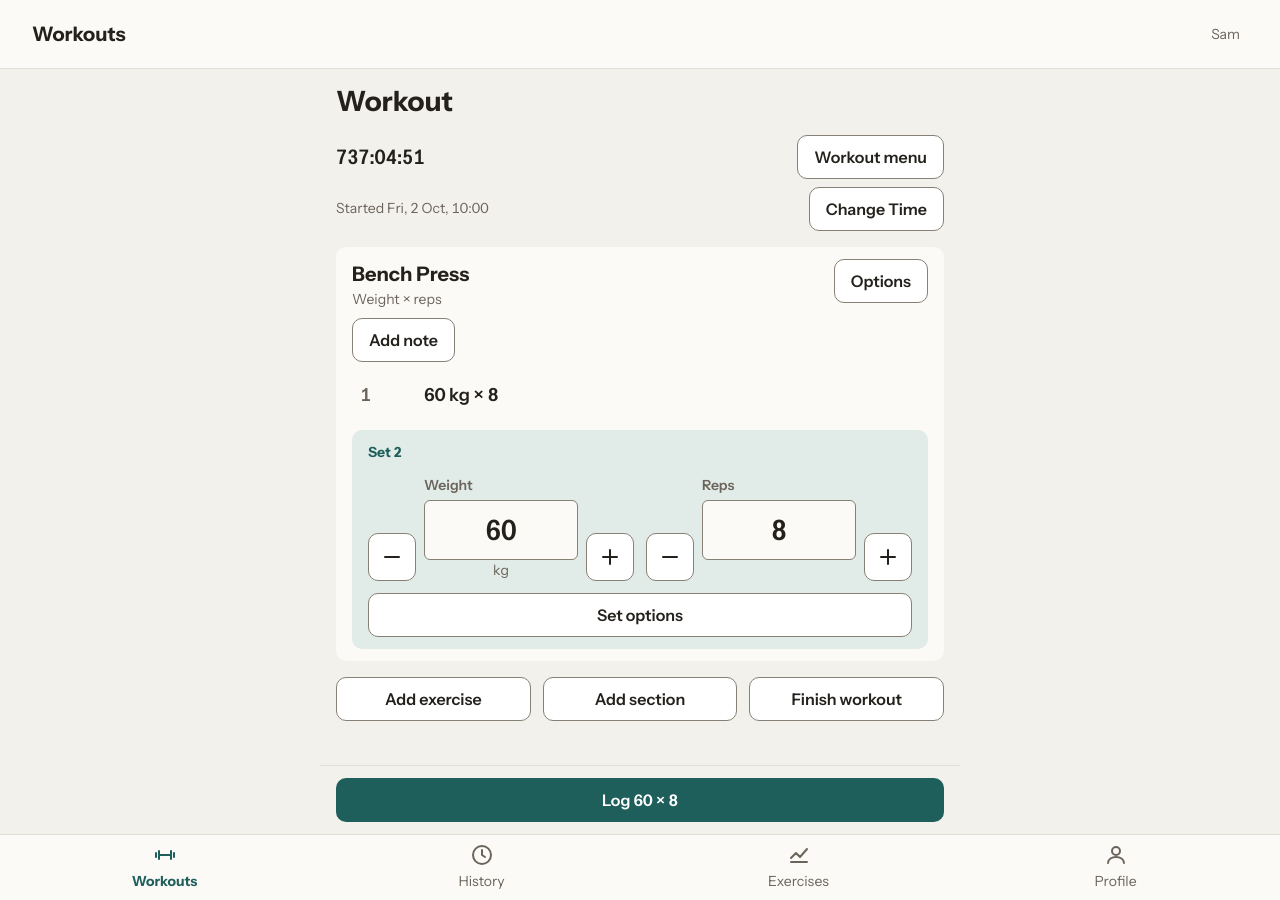
10.5 AC23 — observability › a kept finish tracks only workout_finished, with its usual properties
Expected: the heading "Workout" is shown, [336, 84, 453, 118]
Click the button "Finish workout" at (847, 699), box [749, 677, 944, 721]
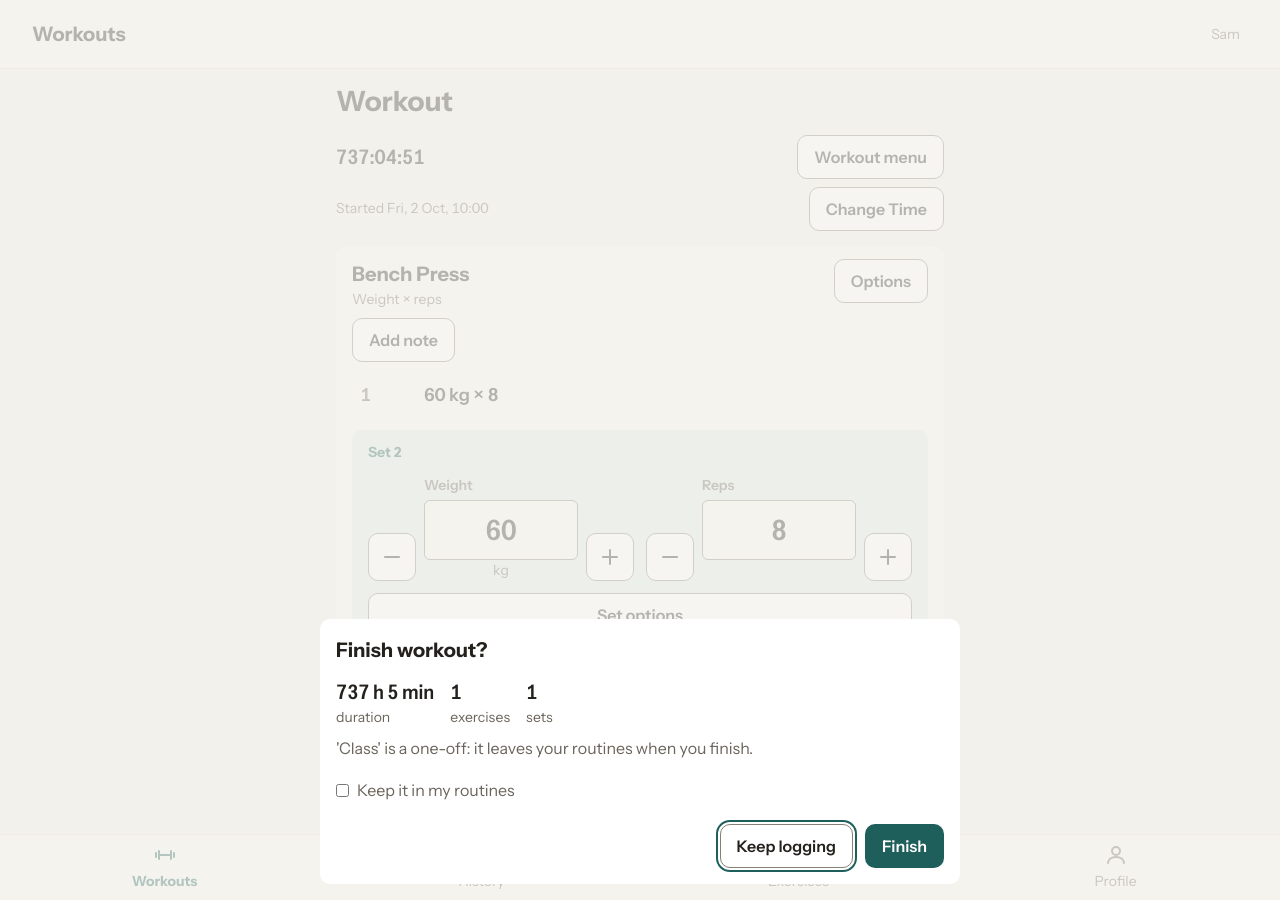
Click the checkbox labelled "Keep it in my routines" at (342, 790), box [336, 784, 349, 796]
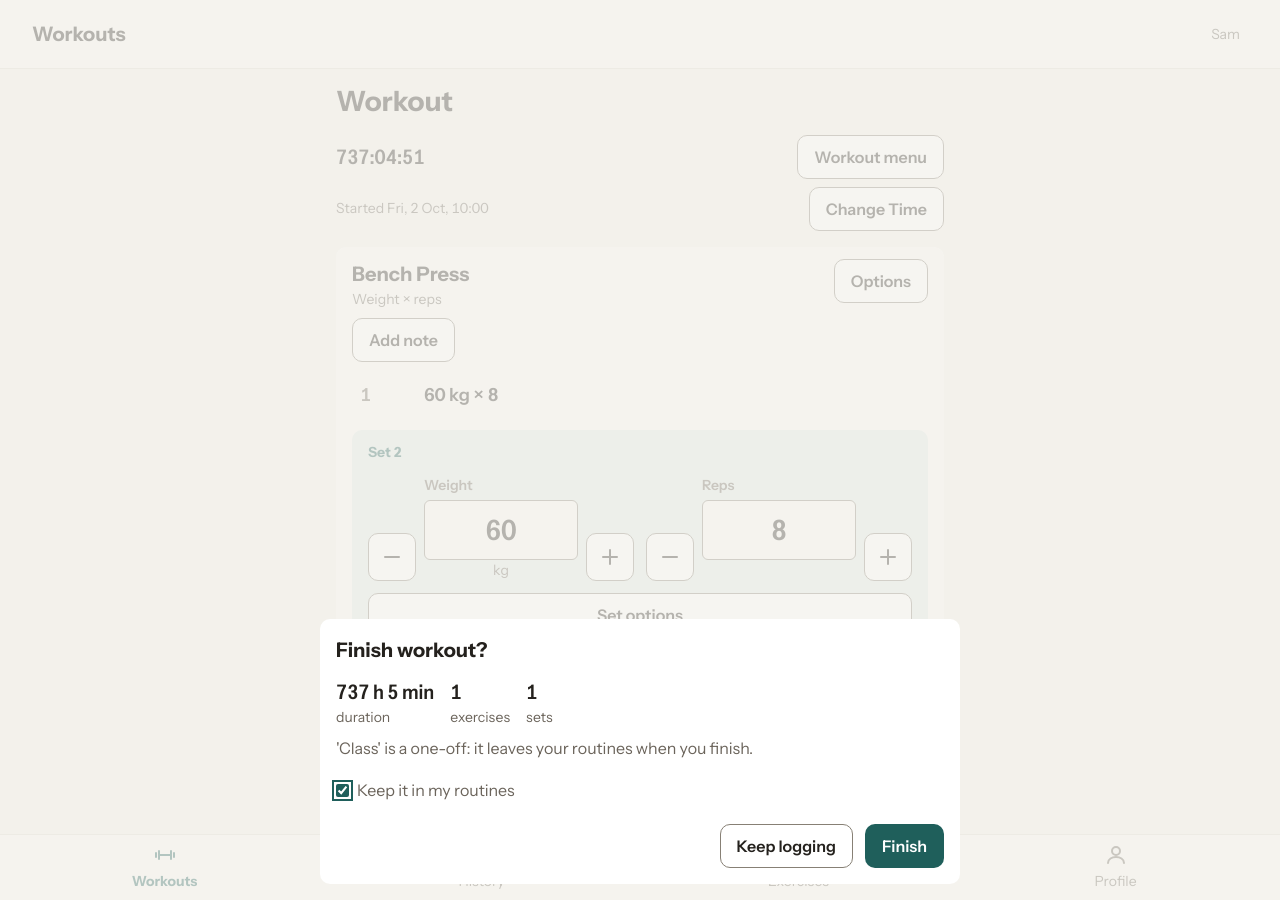
Click the button "Finish" at (904, 846), box [865, 824, 944, 868]
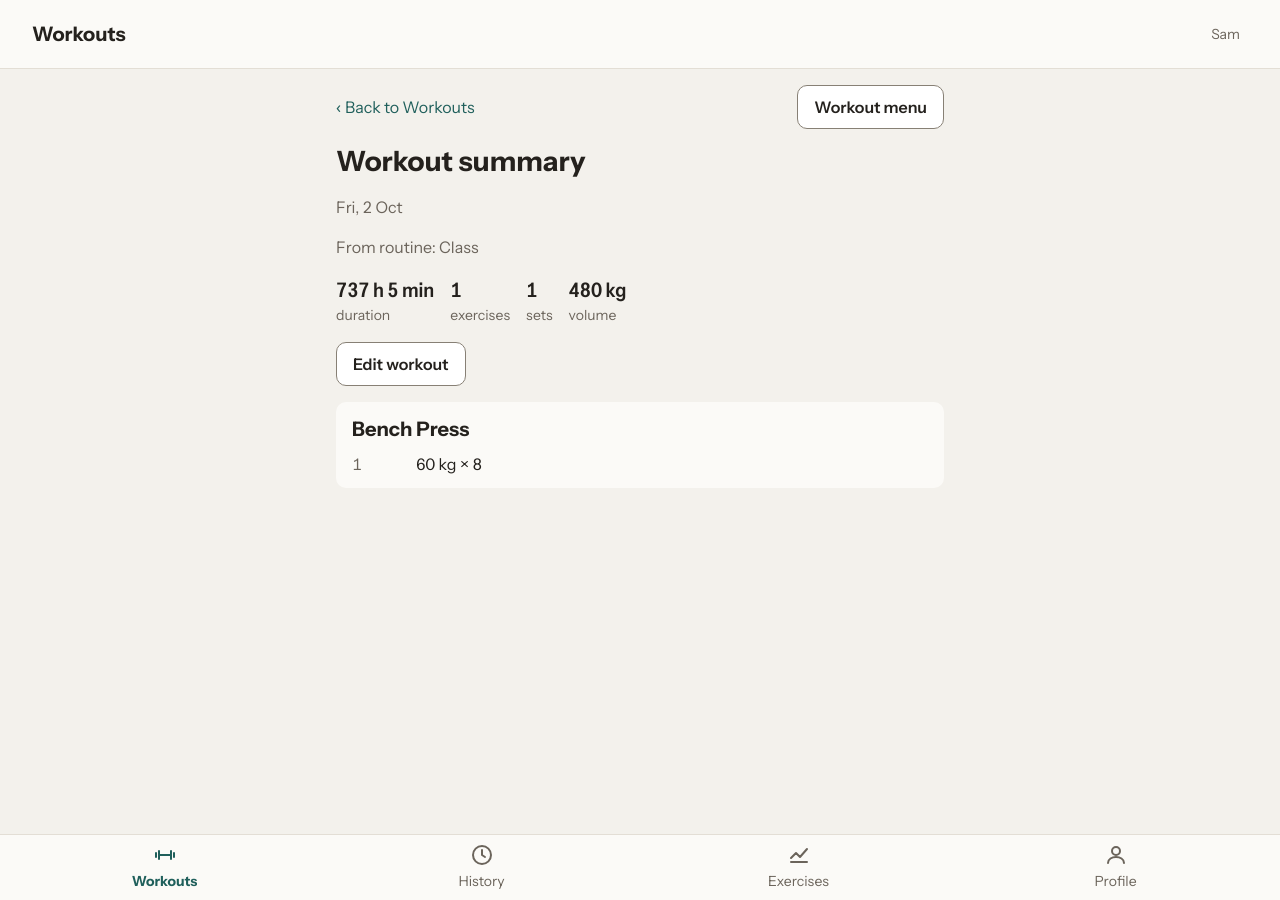
Now the heading "Workout summary" is shown, box [336, 144, 585, 178]
